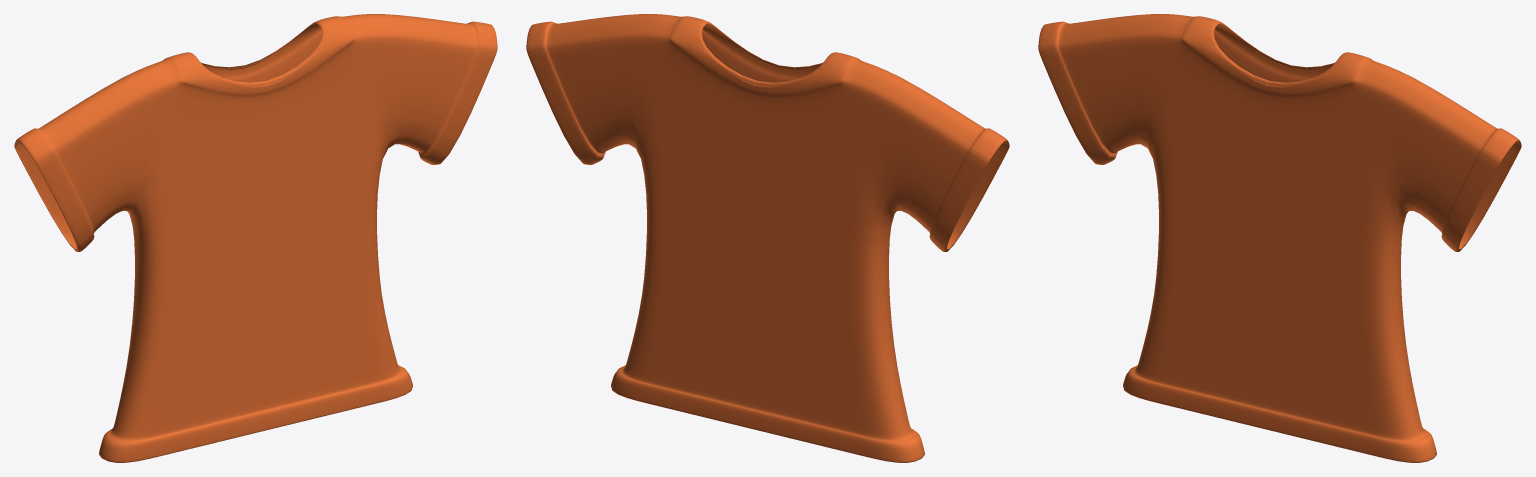
Rendered from tshirt.fbx.
3 views of the same model, side by side, from view 1: azimuth 30°, elevation 25°; view 2: azimuth 150°, elevation 25°; view 3: azimuth 330°, elevation 25° (orthographic).
Visible parts, largest first — view 1: T-shirt; view 2: T-shirt; view 3: T-shirt.
Part boxes in pixels (x1,y1,x2,y2): T-shirt: [14, 14, 497, 462]; T-shirt: [526, 14, 1009, 462]; T-shirt: [1038, 14, 1521, 462].
Bounding box in the file's own units: 23 × 259 × 201.
